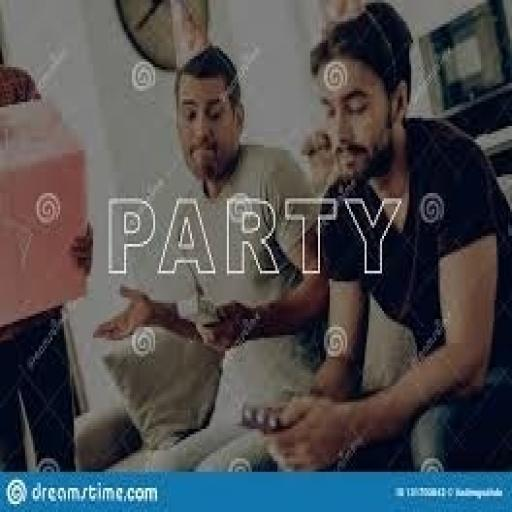sitting: (237, 0, 510, 472), (85, 0, 328, 472), (0, 59, 95, 472)
